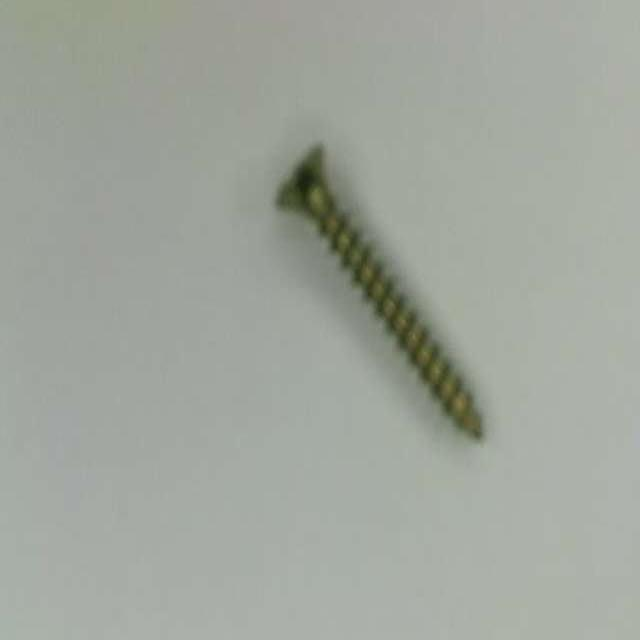Parafuso: (277, 147, 482, 437)
